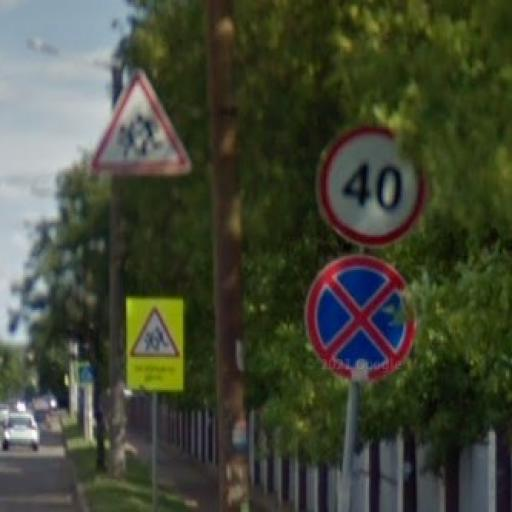traffic_sign: (306, 254, 416, 384), (319, 125, 430, 248), (92, 71, 192, 177), (130, 306, 183, 360)
